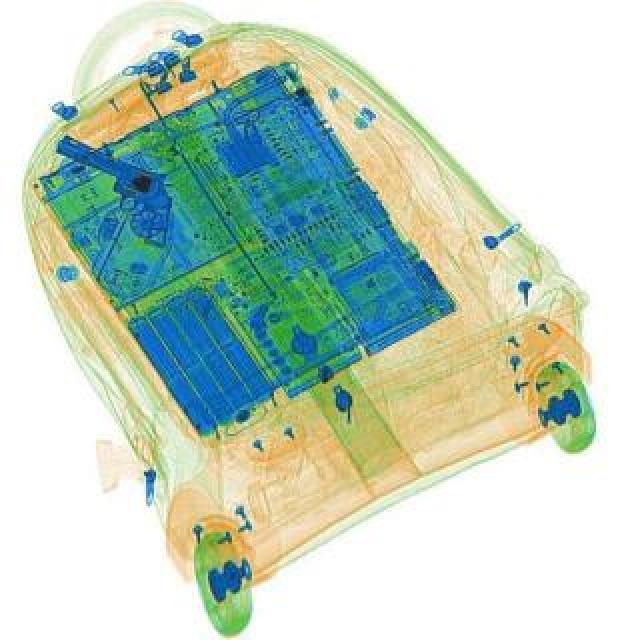gun: (34, 136, 194, 252)
